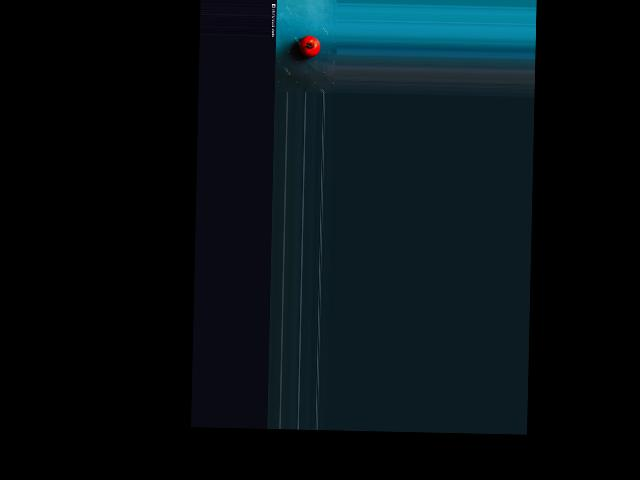tomato: (298, 35, 320, 57)
